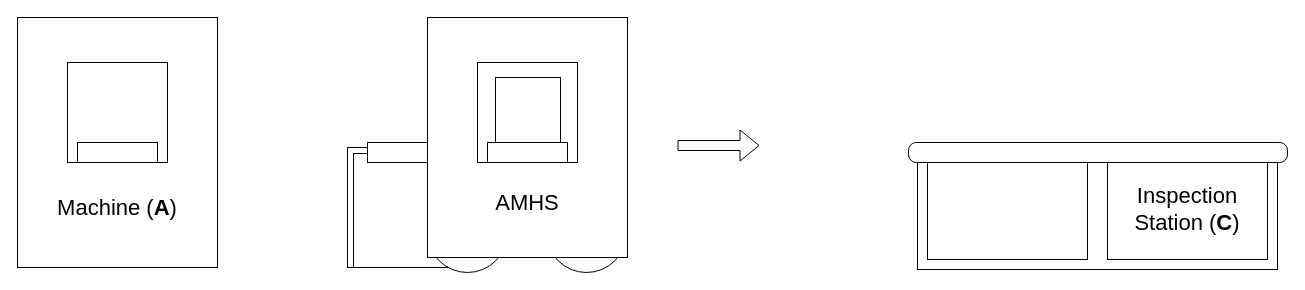
Some shapes in this 1305 by 290 pixel diagram are drawn without their labels. The shapes that lost their labels are listed below. From the top down, each one's centre as x and y in pixels, then its label:
At (527,109): "Item".
At (408,210): "External conveyor line ( B )".
